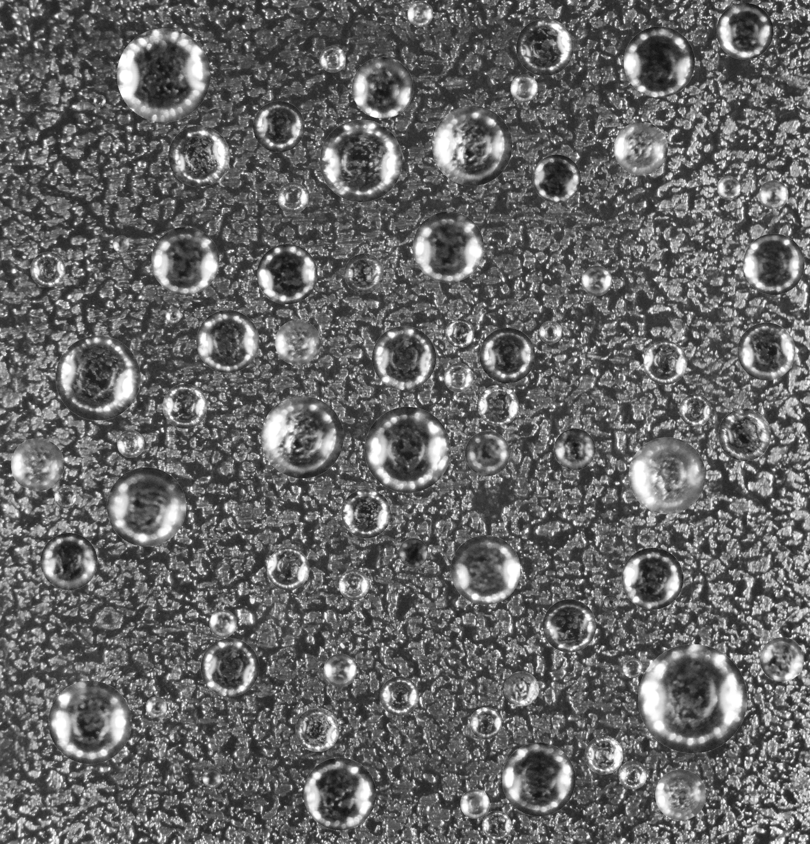Bubble: (638, 644, 747, 753), (116, 28, 210, 122), (364, 406, 450, 492), (55, 335, 140, 420), (48, 680, 131, 764), (319, 119, 402, 202), (261, 396, 343, 478), (432, 105, 512, 185), (106, 467, 186, 546), (628, 437, 705, 514), (502, 742, 575, 816), (303, 757, 376, 830), (412, 211, 483, 282), (623, 26, 694, 97), (450, 535, 520, 604), (151, 227, 219, 294), (372, 326, 436, 390), (196, 310, 259, 372), (621, 547, 683, 609), (168, 125, 229, 186), (352, 57, 413, 118), (743, 233, 804, 294), (257, 244, 317, 304), (200, 638, 259, 696), (737, 322, 795, 380), (716, 2, 773, 59), (516, 18, 573, 75), (40, 533, 97, 590), (479, 327, 535, 383), (614, 121, 667, 175), (542, 599, 596, 652), (10, 438, 64, 491), (718, 408, 771, 461), (253, 100, 304, 152), (655, 769, 706, 820), (341, 489, 390, 538), (532, 154, 580, 202), (275, 319, 320, 365), (162, 384, 207, 428), (760, 637, 804, 681), (643, 340, 687, 384), (465, 431, 509, 475), (295, 708, 339, 751), (266, 547, 309, 590), (554, 428, 595, 470), (477, 385, 518, 425), (344, 253, 383, 293), (379, 676, 418, 715), (584, 736, 623, 774), (30, 252, 65, 287), (504, 671, 538, 706), (323, 653, 356, 686), (679, 394, 711, 426), (469, 707, 501, 739), (277, 182, 308, 213), (338, 569, 369, 600), (581, 265, 611, 295), (618, 760, 647, 789), (759, 180, 788, 209), (445, 318, 474, 347), (398, 538, 427, 567), (460, 789, 489, 818), (482, 811, 511, 840), (444, 363, 473, 392), (209, 609, 236, 637), (117, 430, 144, 457), (510, 74, 537, 101), (319, 46, 345, 72), (407, 1, 433, 26), (717, 176, 740, 199), (539, 320, 562, 343), (54, 485, 77, 508), (145, 696, 166, 717), (622, 658, 642, 678), (202, 769, 221, 788), (112, 235, 129, 252), (165, 307, 180, 323), (603, 595, 618, 610), (93, 94, 105, 107), (692, 265, 703, 276)
